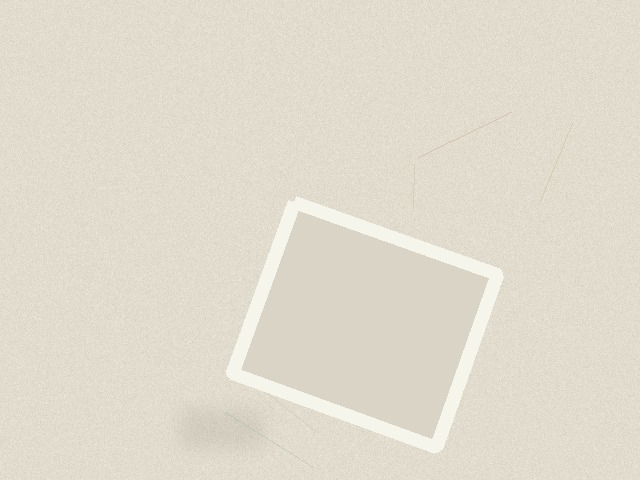parking_area: (232, 202, 497, 447)
